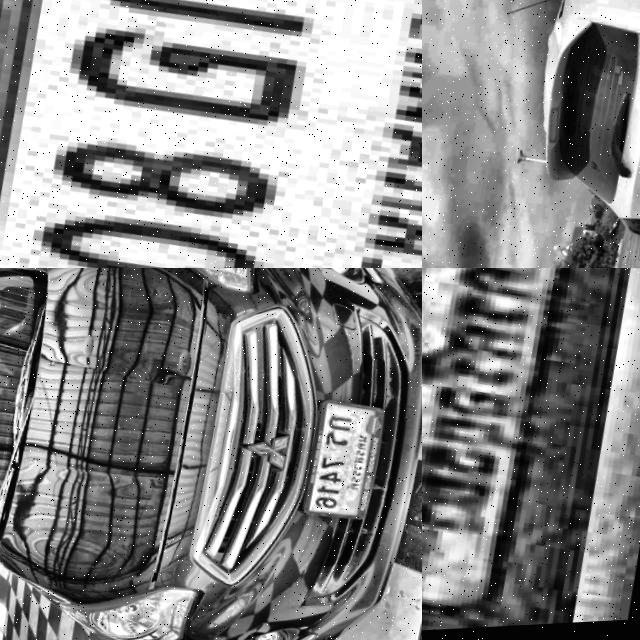license-plate: (0, 0, 422, 268), (422, 268, 640, 640), (296, 400, 388, 528)
